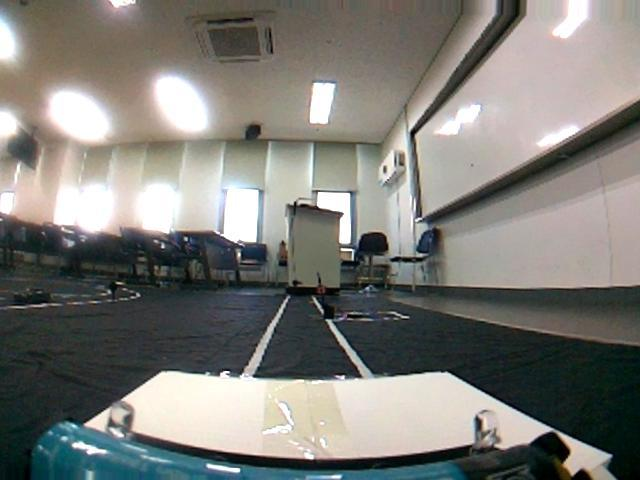hill_up: (30, 344, 640, 480)
